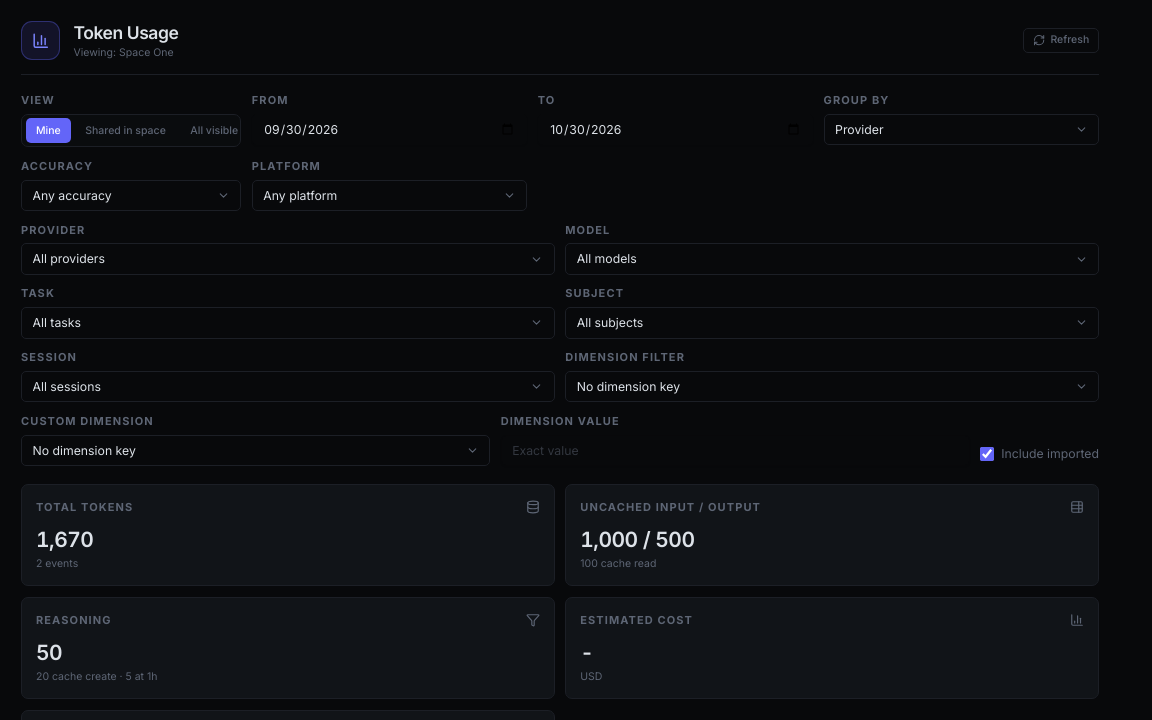
it: UsagePage › keeps the latest filter answer when an earlier window answers later
In the date field named "From": (390, 130) x1=252 y1=114 x2=527 y2=145, type "2025-01-01"
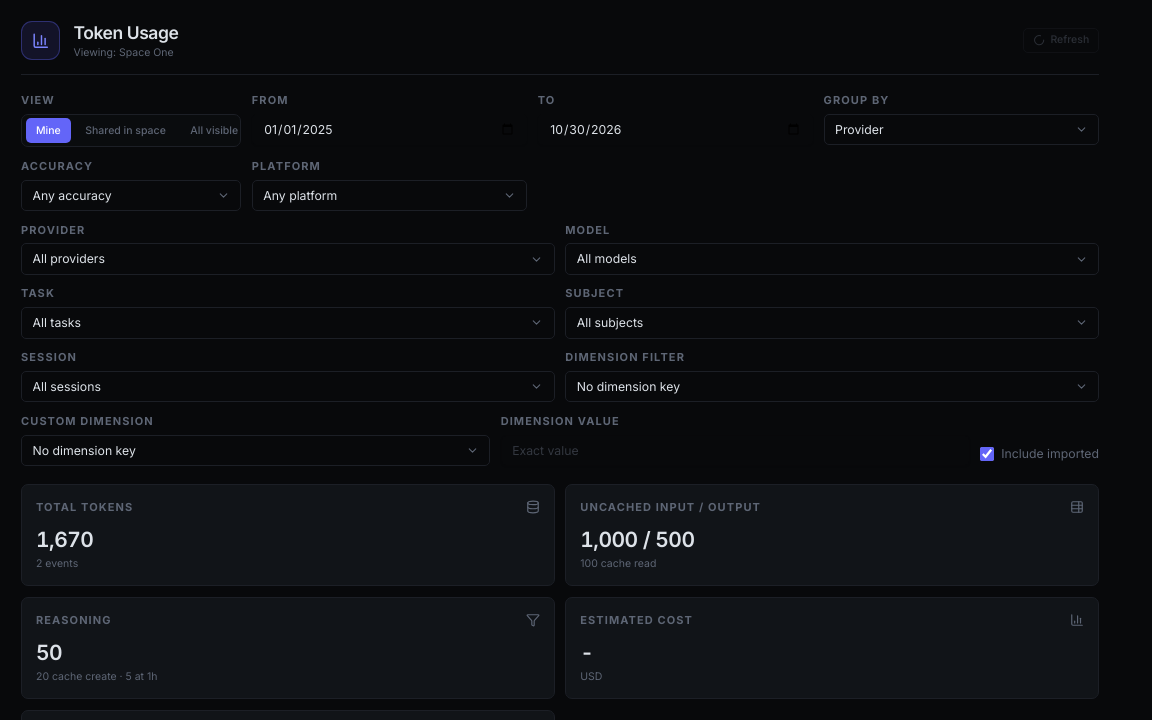
In the date field named "From": (390, 130) x1=252 y1=114 x2=527 y2=145, type "2026-06-01"
(page scrolled)
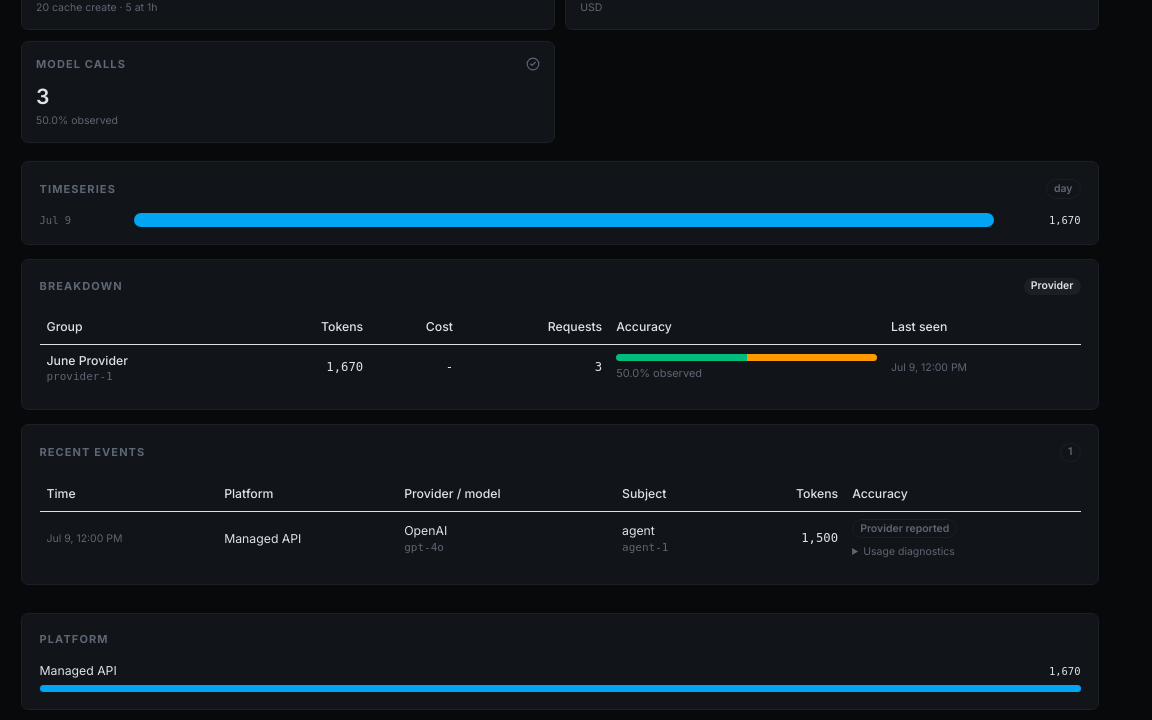
Check: the text "June Provider" is shown, box x1=46 y1=352 x2=128 y2=368
